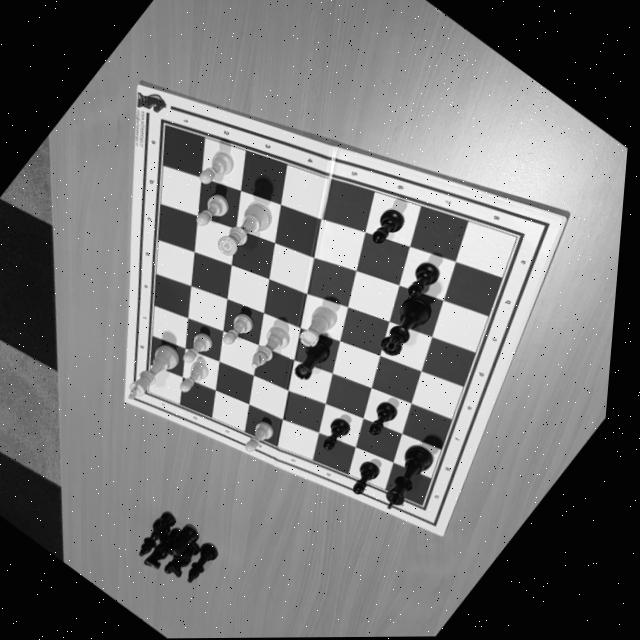chessboard: (153, 123, 522, 508)
